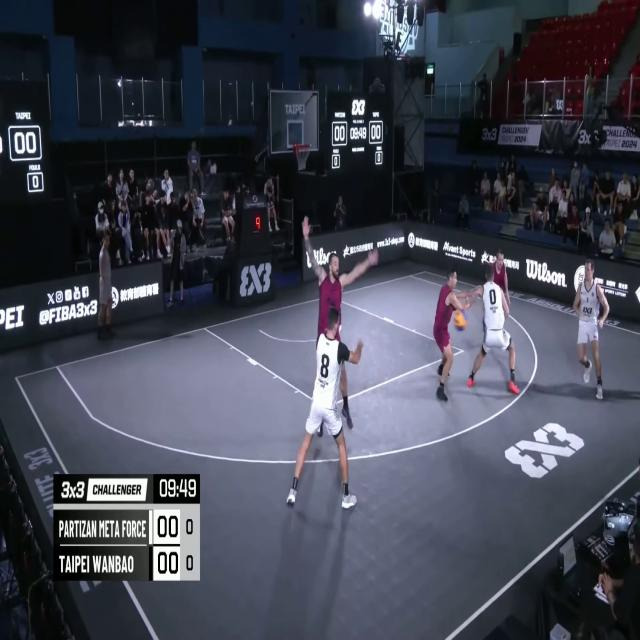ball: (453, 306, 468, 334)
hoop: (294, 141, 312, 170)
player: (300, 214, 380, 441), (289, 310, 362, 511), (465, 264, 517, 396), (572, 257, 610, 402), (433, 263, 469, 402), (491, 249, 510, 315)
